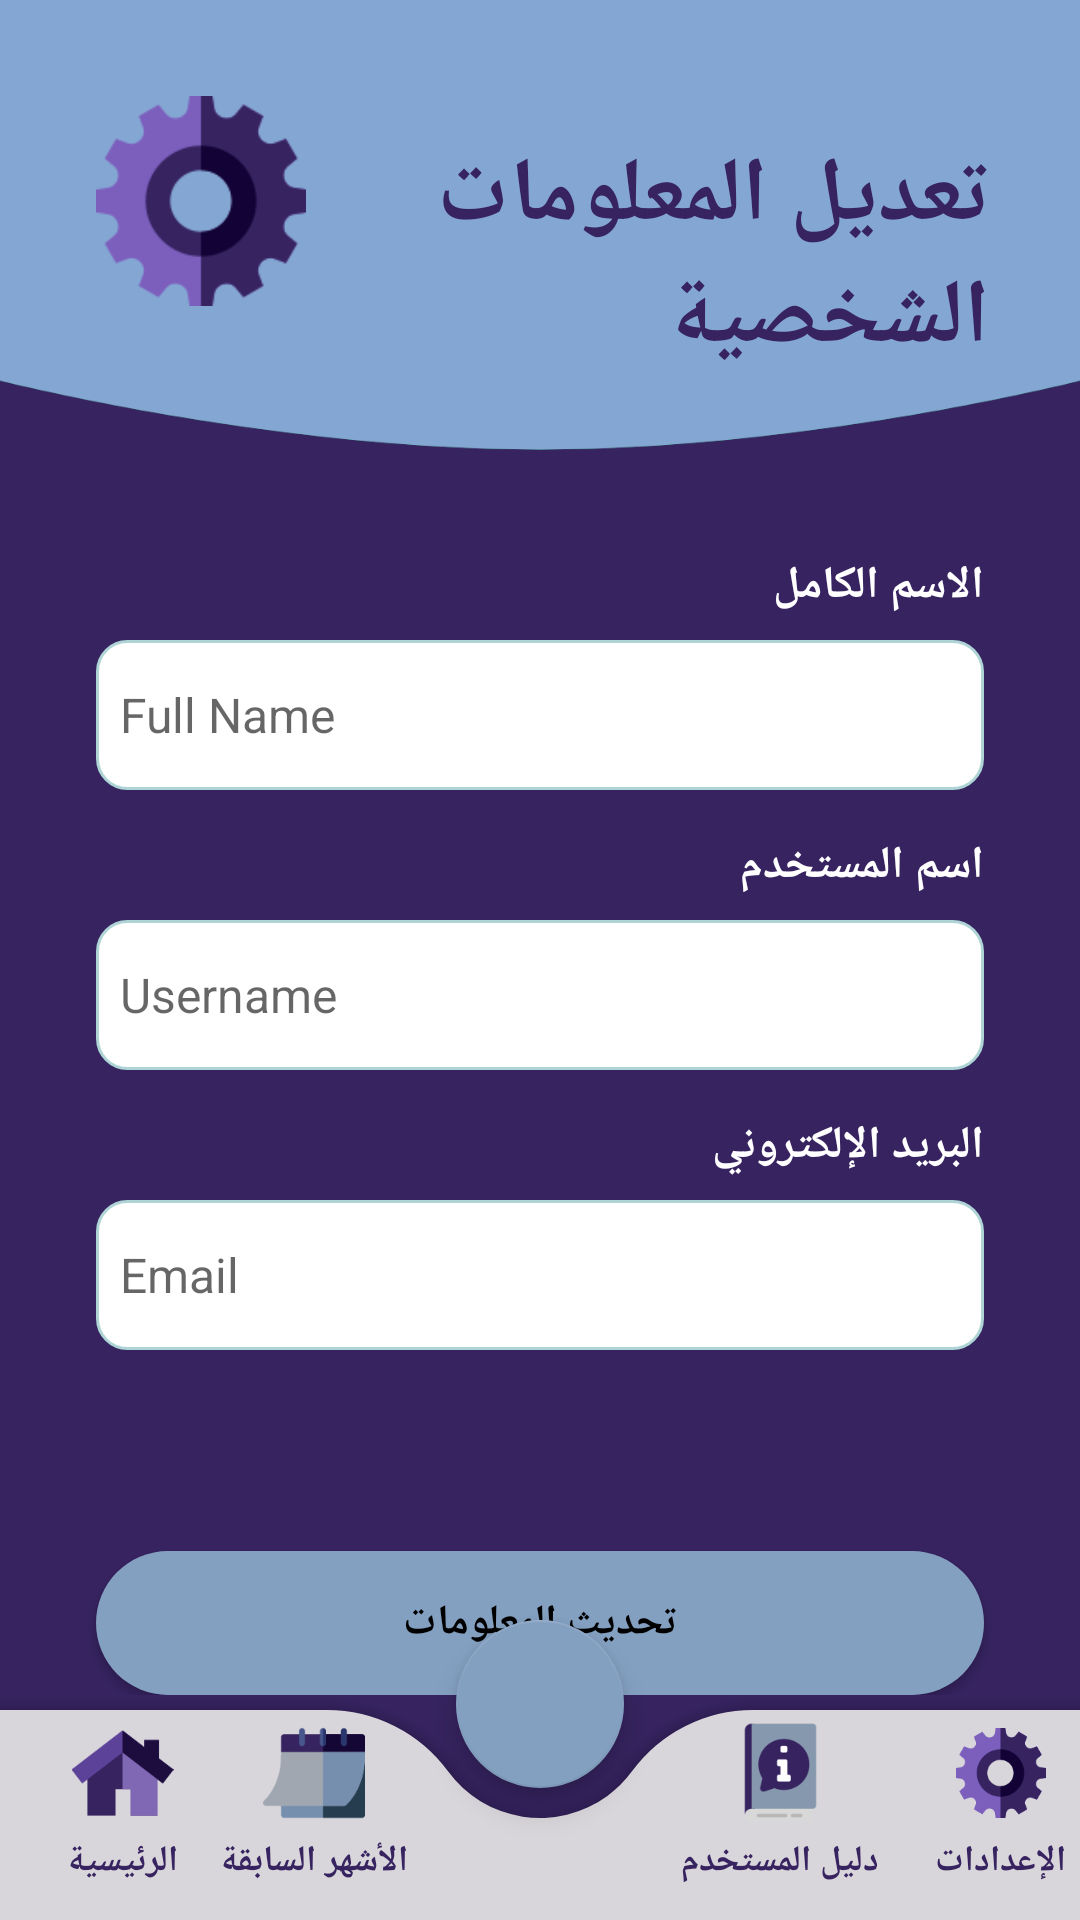

Screen size 1080×1920. Icon name, then its center in pixels as (x,y):
calendar masroofe: (314,1773)
